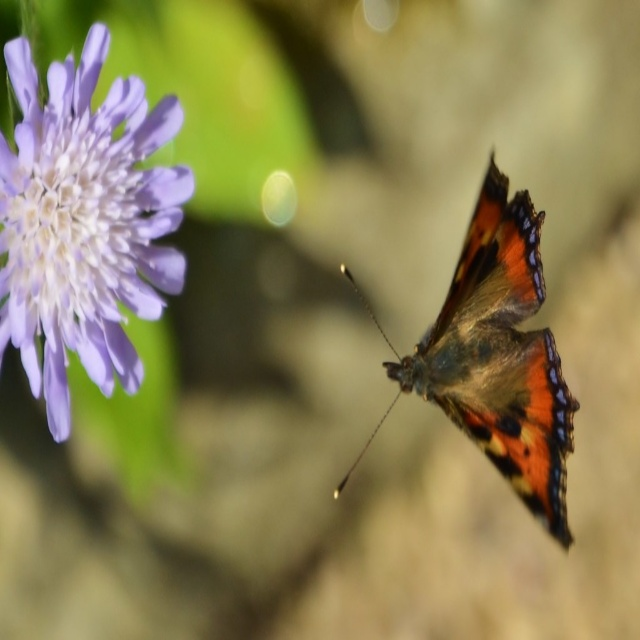Butterfly: (337, 148, 578, 552)
